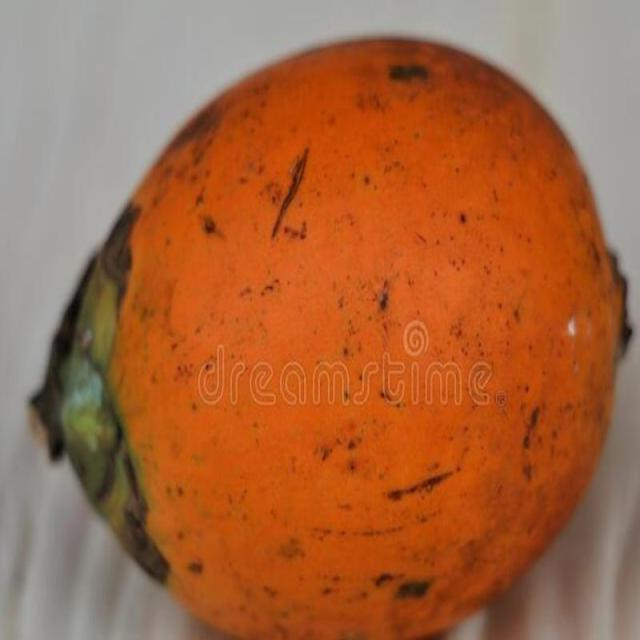good: (29, 36, 628, 639)
